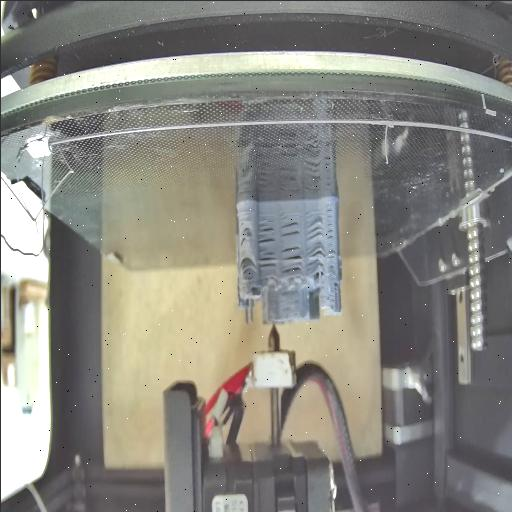cracks: (279, 246, 301, 274), (277, 214, 299, 238), (256, 215, 274, 244), (257, 250, 275, 270), (238, 256, 253, 280), (308, 218, 322, 240), (325, 206, 333, 240), (308, 244, 324, 260), (240, 228, 252, 248), (332, 280, 340, 294), (326, 248, 334, 258)
